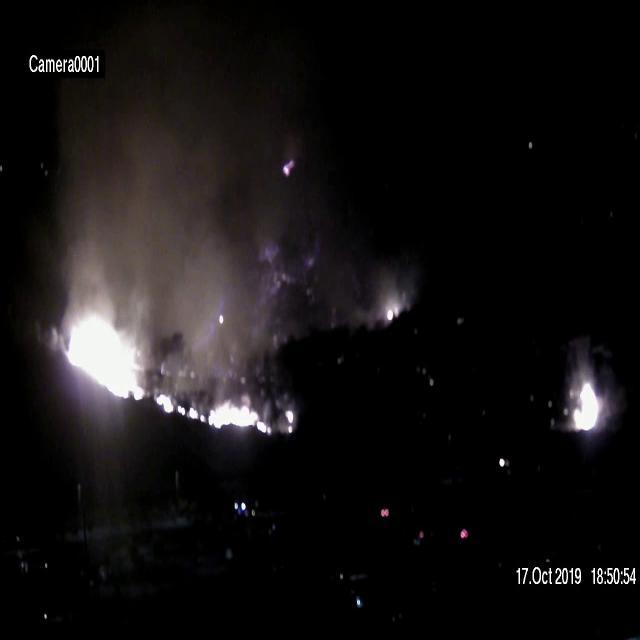Fire: (70, 308, 144, 400), (154, 388, 272, 433), (572, 375, 602, 437), (281, 408, 296, 436), (386, 303, 400, 325)
Smoke: (65, 53, 288, 402), (296, 252, 420, 334)
